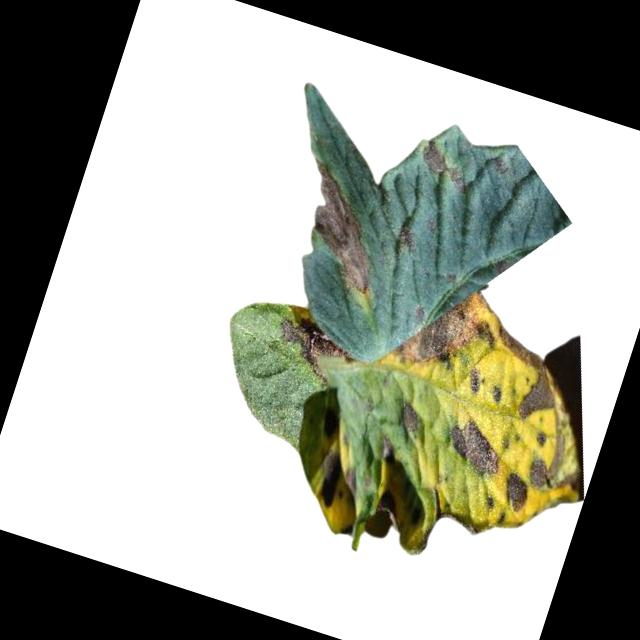Early_blight: (280, 158, 402, 296), (393, 272, 509, 396), (475, 321, 575, 428), (269, 309, 360, 386), (440, 410, 512, 479), (408, 136, 473, 195), (310, 448, 352, 510), (524, 452, 564, 494), (498, 470, 534, 513), (398, 399, 428, 433), (392, 218, 422, 250), (490, 150, 515, 176), (532, 427, 552, 449)
